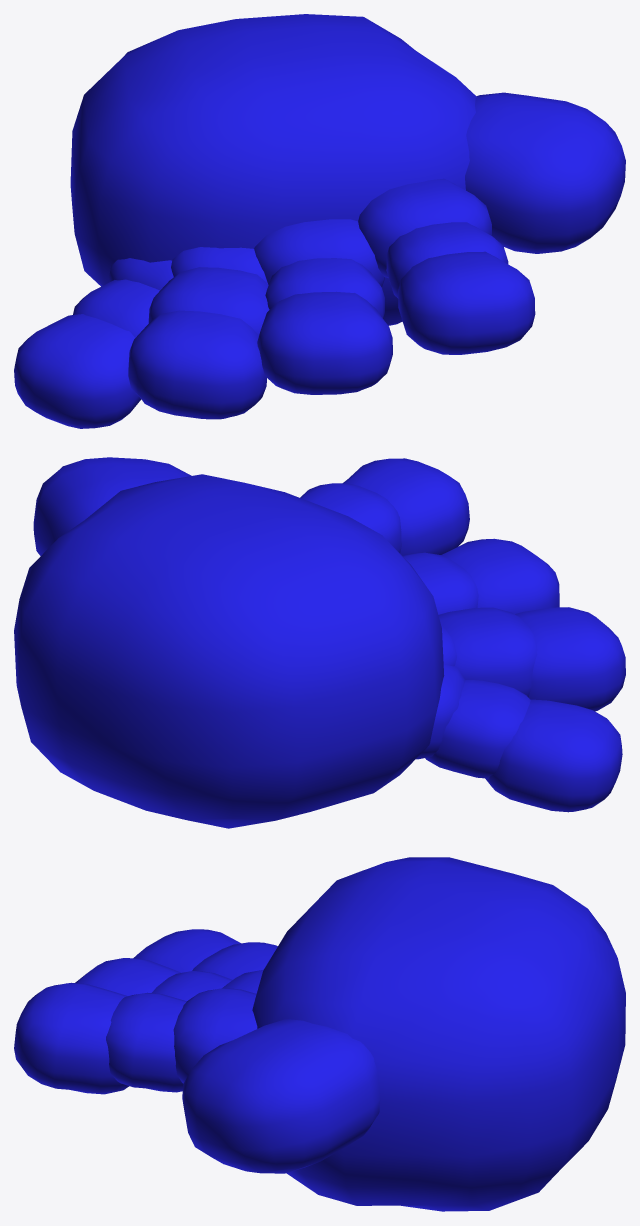
The model's file is piedGaucheSingeBleu.gltf.
3 renders of one model, top to bottom at view 1: azimuth 30°, elevation 25°; view 2: azimuth 150°, elevation 25°; view 3: azimuth 270°, elevation 25°, orthographic. The views are drawn at different scales.
Parts seen in each view (by area): view 1: Roundcube.046; view 2: Roundcube.046; view 3: Roundcube.046.
Part boxes in pixels (left/top/right/bottom): Roundcube.046: left=14, top=14, right=625, bottom=428; Roundcube.046: left=14, top=457, right=625, bottom=828; Roundcube.046: left=14, top=857, right=625, bottom=1211.
Bounding box in the file's own units: 0.9681 × 0.4341 × 0.8933.
